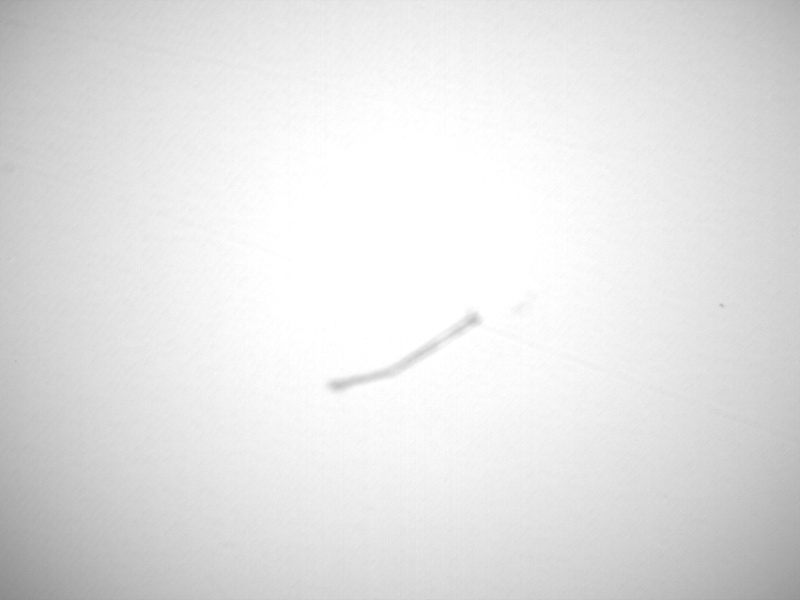fiber: (326, 309, 484, 392)
